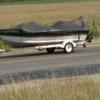Boat: (1, 19, 95, 63)
